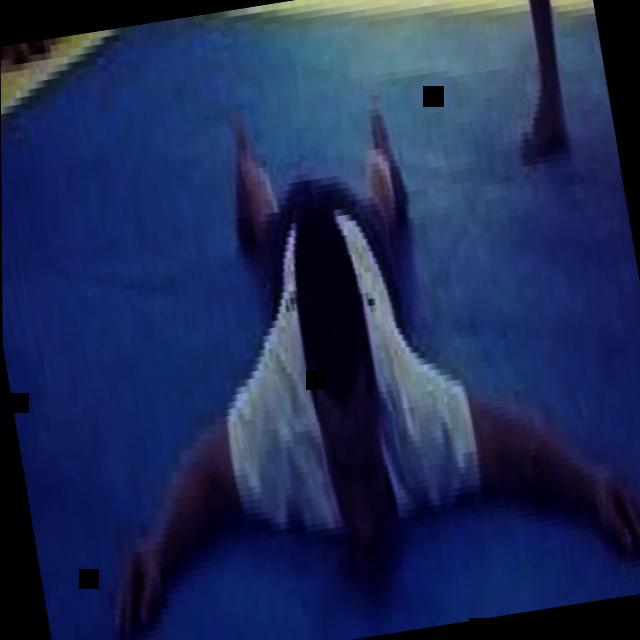Fall-Detected: (4, 22, 640, 640)
